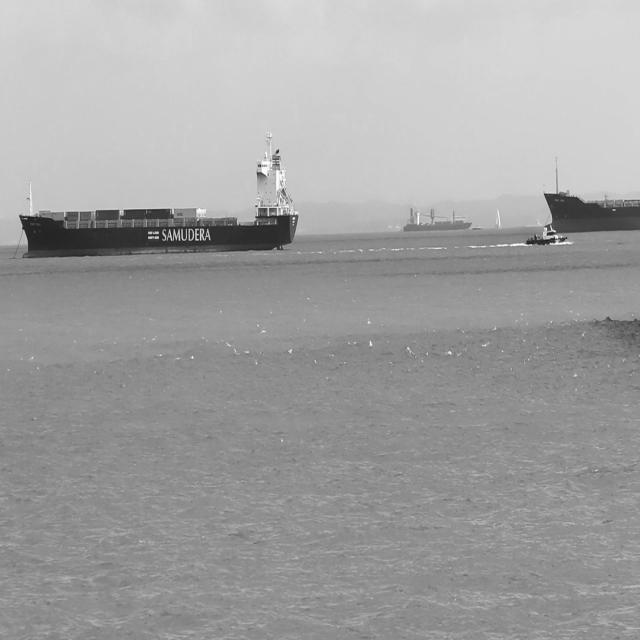boat: (494, 203, 502, 230)
ship: (19, 129, 299, 259), (544, 158, 639, 234), (402, 206, 473, 233), (526, 223, 568, 246), (472, 223, 482, 231)
